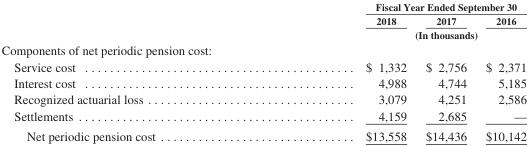table: (0, 0, 525, 142)
table column: (0, 0, 259, 142), (259, 0, 415, 142), (415, 0, 475, 142), (475, 0, 525, 142)
table column header: (0, 0, 525, 41)
table projected row header: (0, 41, 525, 58)
table row: (0, 107, 525, 125), (0, 41, 525, 58), (0, 90, 525, 107), (0, 125, 525, 142), (0, 58, 525, 74), (0, 74, 525, 90), (0, 13, 525, 27), (0, 27, 525, 41), (0, 0, 525, 13)
table spanning cell: (259, 27, 525, 41), (259, 0, 525, 13)
